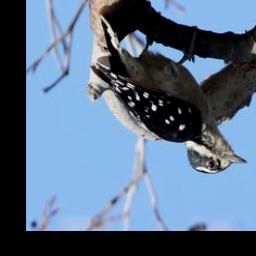Woodpecker: (87, 16, 249, 176)
